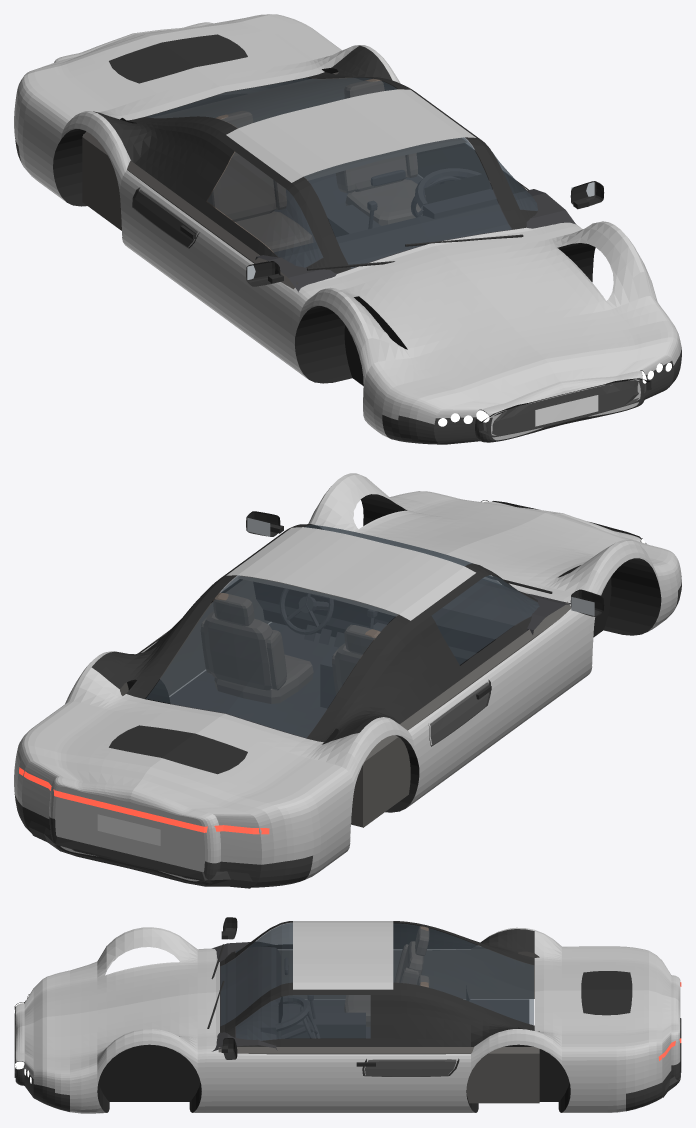
The model's file is car_lemans.fbx.
The picture shows the model from 3 angles, top to bottom: view 1: azimuth 30°, elevation 25°; view 2: azimuth 150°, elevation 25°; view 3: azimuth 270°, elevation 25°; orthographic projection. The views are drawn at different scales.
Visible parts, largest first — view 1: lemans__hood, lemans__glass, lemans__trunk, lemans__interior, lemans__pillars, lemans__roof, lemans__cabin, lemans__seats, lemans__quarterR, lemans__doorR, lemans__wells, lemans__fenderFR (+9 smaller); view 2: lemans__glass, lemans__trunk, lemans__hood, lemans__interior, lemans__pillars, lemans__quarterR, lemans__roof, lemans__seats, lemans__cabin, lemans__doorR, lemans__rearPanel, lemans__wells (+11 smaller); view 3: lemans__hood, lemans__glass, lemans__trunk, lemans__cabin, lemans__quarterL, lemans__pillars, lemans__doorL, lemans__interior, lemans__roof, lemans__wells, lemans__fenderFL, lemans__seals (+10 smaller).
Boxes of the visible parts, box(x1,y1,x2,y2) form: lemans__hood: box(301, 222, 667, 414); lemans__glass: box(147, 77, 537, 268); lemans__trunk: box(28, 14, 561, 285); lemans__interior: box(255, 168, 576, 292); lemans__pillars: box(106, 51, 537, 273); lemans__roof: box(226, 89, 475, 182); lemans__cabin: box(82, 72, 528, 289); lemans__seats: box(206, 78, 425, 252); lemans__quarterR: box(14, 71, 168, 276); lemans__doorR: box(160, 201, 288, 364); lemans__wells: box(53, 67, 595, 385); lemans__fenderFR: box(279, 287, 482, 438); lemans__glass: box(146, 524, 539, 737); lemans__trunk: box(28, 578, 562, 821); lemans__hood: box(315, 474, 667, 602); lemans__interior: box(169, 579, 570, 738); lemans__pillars: box(99, 524, 537, 742); lemans__quarterR: box(213, 700, 458, 879); lemans__roof: box(226, 527, 475, 620); lemans__seats: box(200, 592, 380, 703); lemans__cabin: box(120, 575, 571, 827); lemans__doorR: box(450, 611, 577, 775); lemans__rearPanel: box(49, 778, 220, 881); lemans__wells: box(127, 494, 661, 812); lemans__hood: box(15, 929, 215, 1070); lemans__glass: box(220, 922, 533, 1040); lemans__trunk: box(216, 931, 680, 1046); lemans__cabin: box(218, 946, 539, 1103); lemans__quarterL: box(407, 1029, 671, 1112); lemans__pillars: box(220, 921, 534, 1041); lemans__doorL: box(225, 1053, 407, 1112); lemans__interior: box(212, 942, 529, 1051); lemans__roof: box(293, 921, 393, 989); lemans__wells: box(97, 986, 570, 1112); lemans__fenderFL: box(24, 1029, 224, 1113); lemans__seals: box(237, 929, 534, 1046).
Size of the model in its own units: 2.43 by 0.9912 by 5.21.
